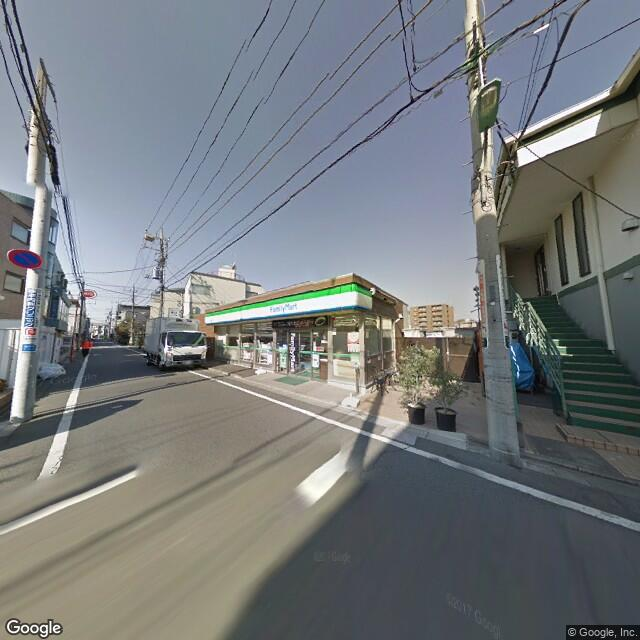family_mart: (202, 282, 375, 327), (268, 296, 301, 319)
